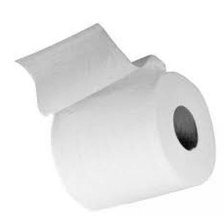tissue: (10, 17, 221, 216)
